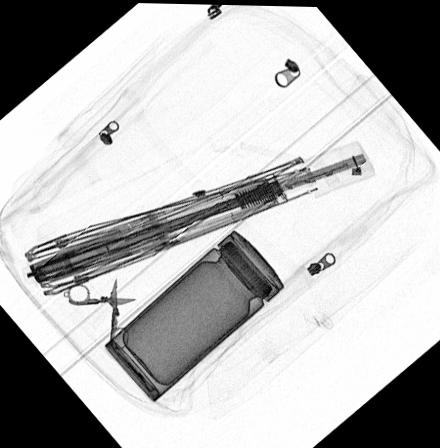Scissors: (64, 277, 136, 349)
